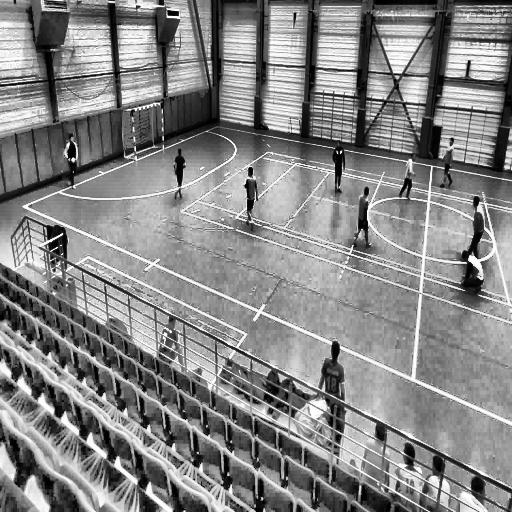ball: (70, 157, 76, 165)
player: (467, 194, 486, 264), (460, 252, 486, 300), (353, 184, 372, 248), (244, 165, 259, 231), (439, 138, 455, 190), (398, 151, 414, 202), (64, 133, 79, 187), (332, 142, 346, 195), (173, 148, 186, 203)
